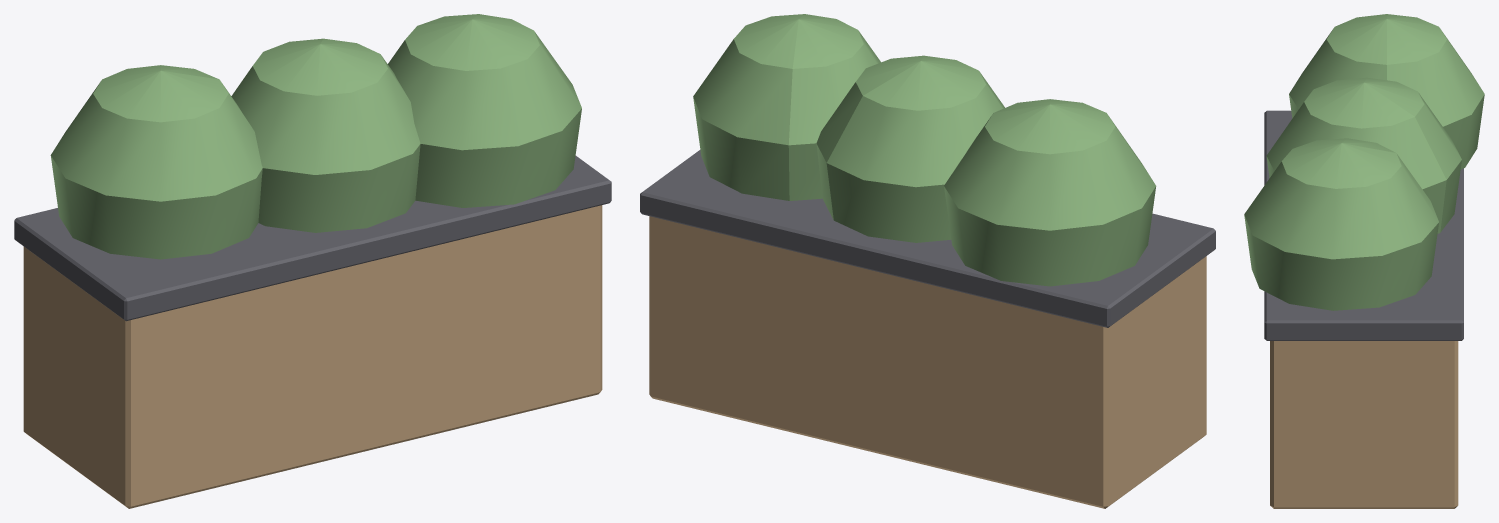
Rendered from motorway-services-and-truck-park-indoor-planter-8aabc188__35947.glb.
3 renders of one model, left to right at view 1: azimuth 30°, elevation 25°; view 2: azimuth 150°, elevation 25°; view 3: azimuth 270°, elevation 25°, orthographic. The views are drawn at different scales.
Visible parts, largest first — view 1: indoor-planter; view 2: indoor-planter; view 3: indoor-planter.
Part boxes in pixels (x1,y1,x2,y2): indoor-planter: [14, 14, 611, 508]; indoor-planter: [640, 14, 1215, 508]; indoor-planter: [1244, 14, 1484, 508].
Bounding box in the file's own units: 1.33 × 0.96 × 0.6389.
